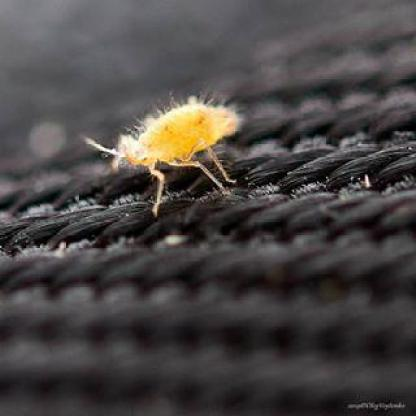aphid: (98, 74, 258, 209)
